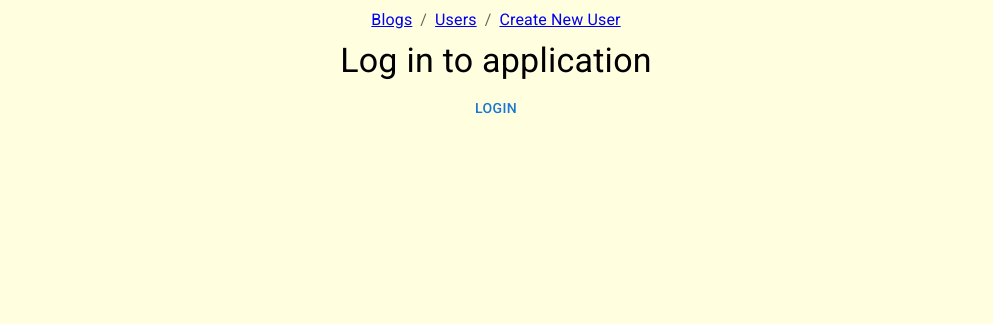
it: Blog app › Login › fails with wrong credentials
Click the button "login".
click(496, 109)  # box [464,90,528,127]
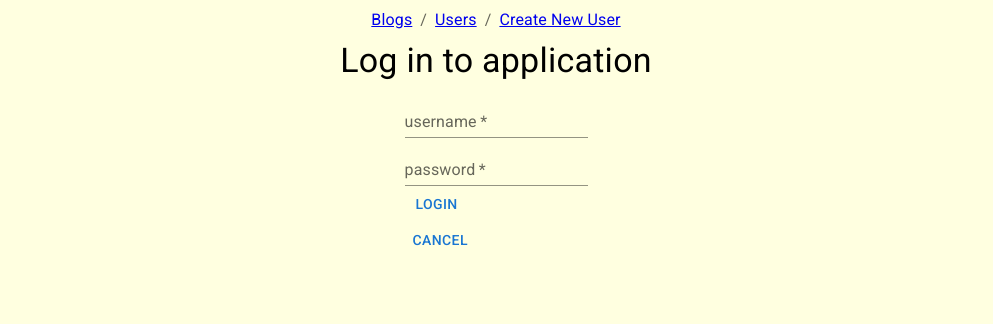
Type "Magrassi" into the field with id "username".
click(497, 122); type("Magrassi")  # box [405,106,588,138]
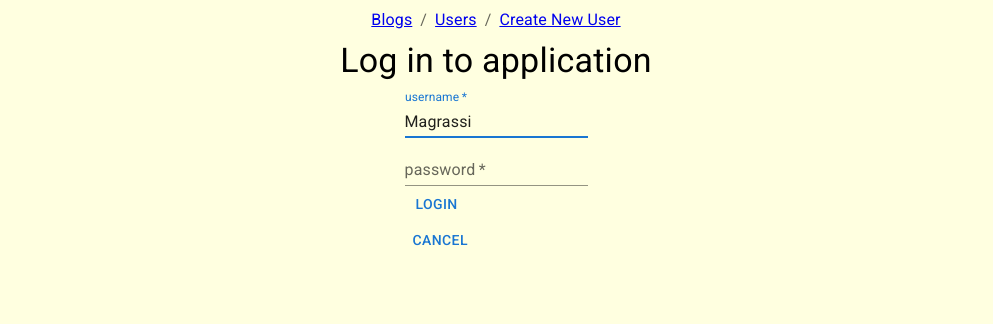
Type "teste" into the field labelled "password *".
click(497, 170); type("teste")  # box [405,154,588,186]
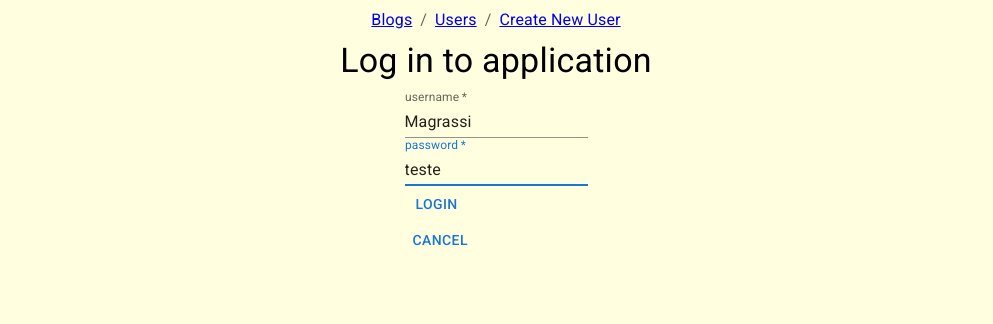
Click the button with id "login-button".
click(437, 205)  # box [405,186,469,223]
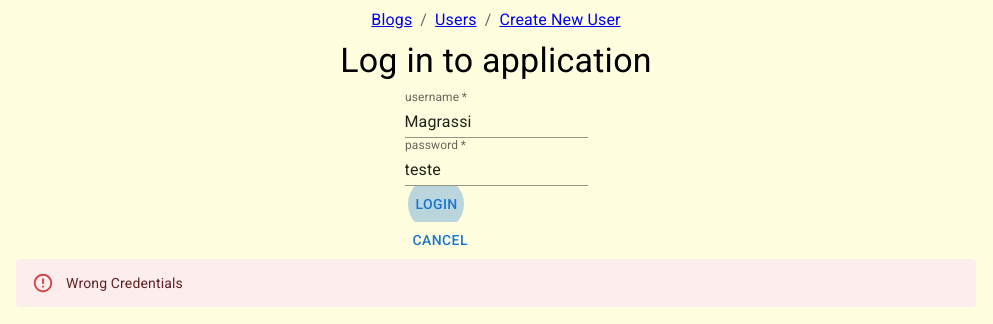
expect the text "Wrong Credentials" is shown: met, box [66,275,183,291]
